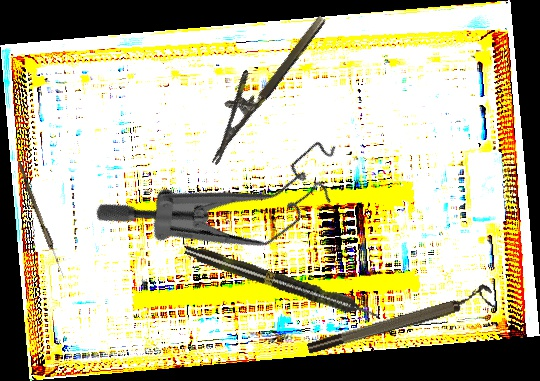Fixation Ring: (303, 282, 497, 358)
Handpiece: (182, 241, 382, 325)
Needle Holder: (187, 0, 329, 166)
Speculum: (91, 71, 363, 321)
Surgical Spoon: (14, 161, 68, 279)
